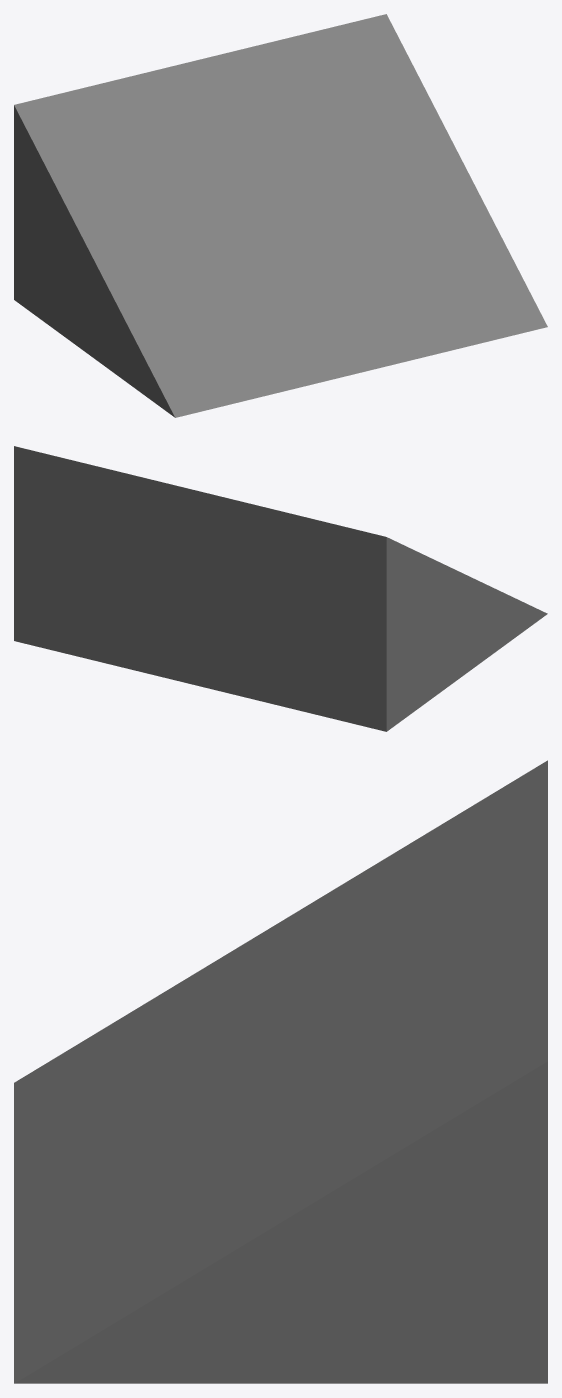
Rendered from q-scifi-mod-platform-ramp-2short.glb.
3 renders of one model, top to bottom at view 1: azimuth 30°, elevation 25°; view 2: azimuth 150°, elevation 25°; view 3: azimuth 270°, elevation 25°, orthographic. The views are drawn at different scales.
Parts seen in each view (by area): view 1: Platform_Ramp_2Short; view 2: Platform_Ramp_2Short; view 3: Platform_Ramp_2Short.
Part boxes in pixels (x1,y1,x2,y2): Platform_Ramp_2Short: (14,14,547,417); Platform_Ramp_2Short: (14,446,547,731); Platform_Ramp_2Short: (14,760,547,1383).
Bounding box in the file's own units: 2 × 1 × 1.5.
Materials: 3 (3 with a texture image).
